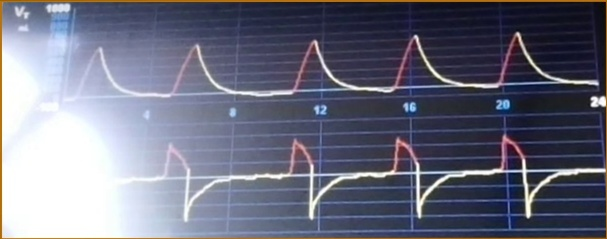Normal Flow: (118, 128, 607, 225)
Normal Volume: (70, 29, 593, 101)
